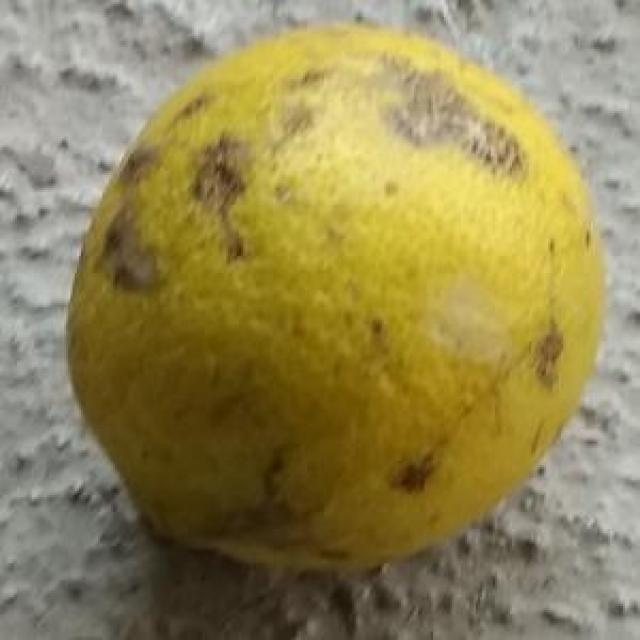lemon: (61, 22, 602, 575)
